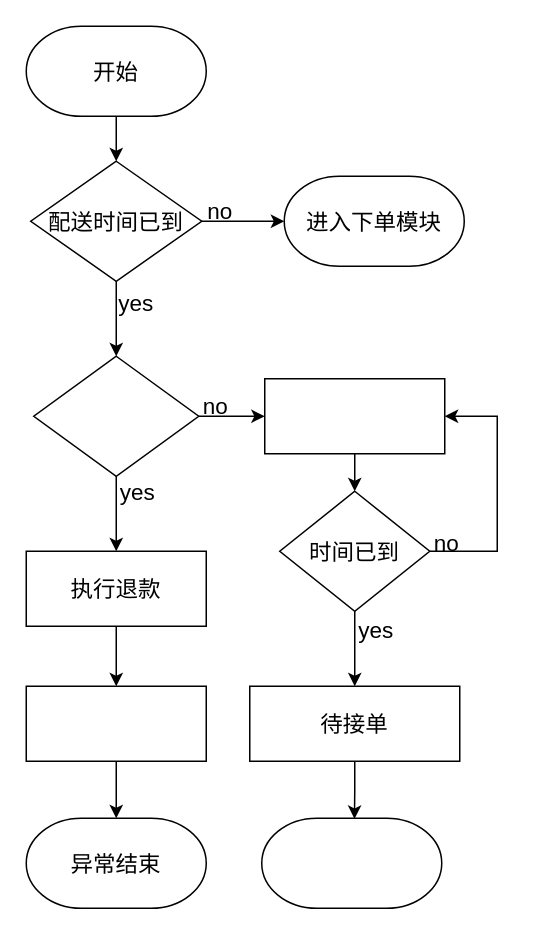
Some shapes in this 536 by 935 pixel diagram are drawn without their labels. The shapes that lost their labels are listed below. From the top down, each one's box as (x1, y1, x2, y2) in pixels, then its label:
(32, 355, 199, 476): 退款
(263, 377, 445, 454): 等待
(25, 685, 206, 761): 取消订单
(260, 817, 442, 908): 进入配送模块
